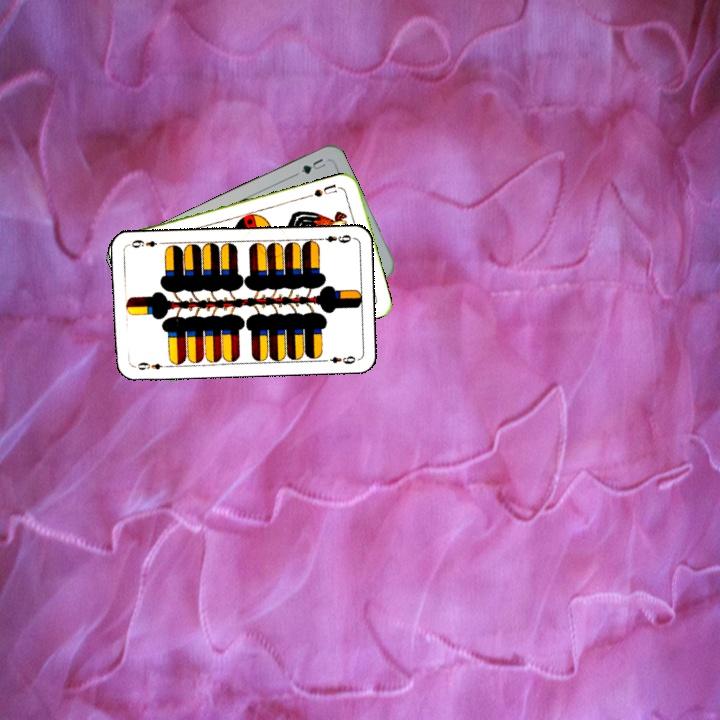E9: (130, 358, 171, 372), (315, 231, 355, 245)
GU: (297, 154, 329, 177)
SU: (310, 180, 344, 199)
